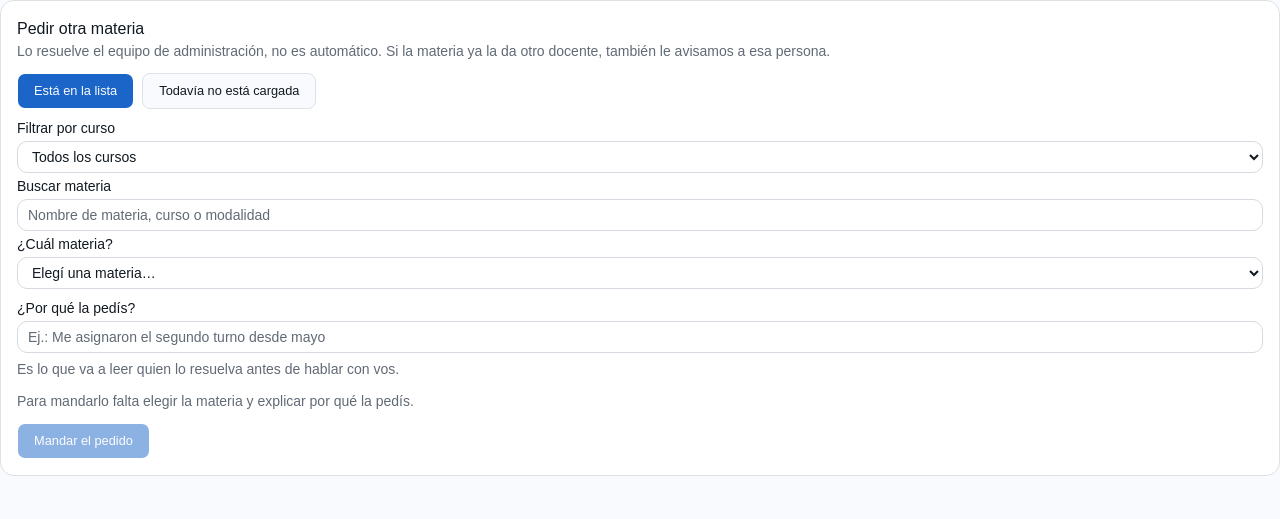
it: PedirMateria: consulta del catálogo › busca sin tildes por nombre y filtra cursos de distintas modalidades
Step 1. Select "3°1 · Electromecánica" in the dropdown labelled "Filtrar por curso" → (640, 157), box left=17, top=141, right=1263, bottom=173
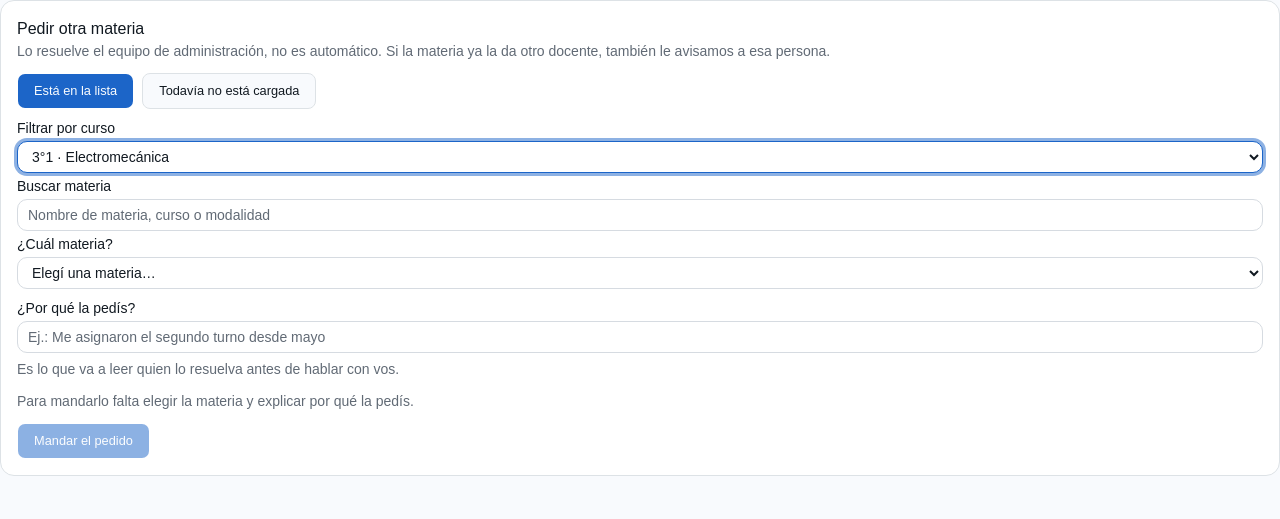
Step 2. Type "matematica" into the field labelled "Buscar materia" → (640, 215), box left=17, top=199, right=1263, bottom=231
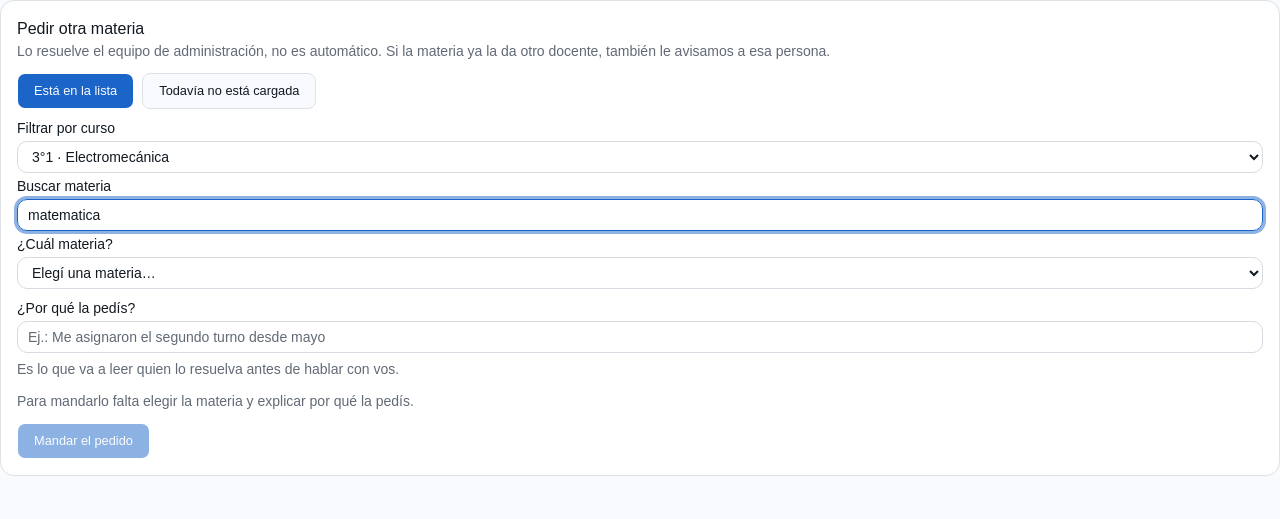
Step 3. Select "Matemática" in the dropdown labelled "¿Cuál materia?" → (640, 273), box left=17, top=257, right=1263, bottom=289
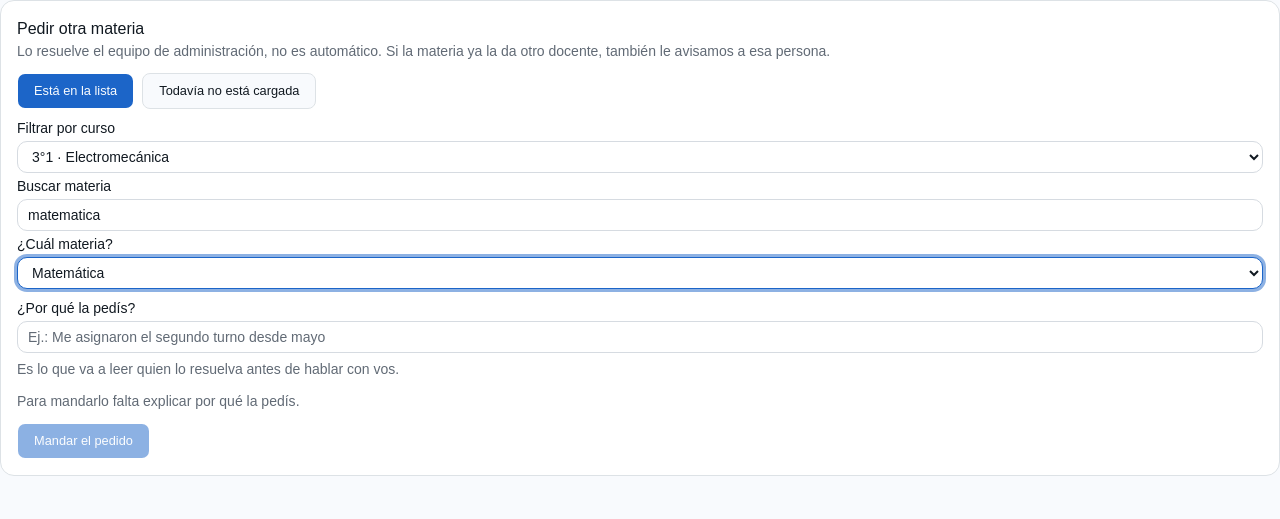
Step 4. Type "Me asignaron el curso" into the field labelled "¿Por qué la pedís?" → (640, 337), box left=17, top=321, right=1263, bottom=353
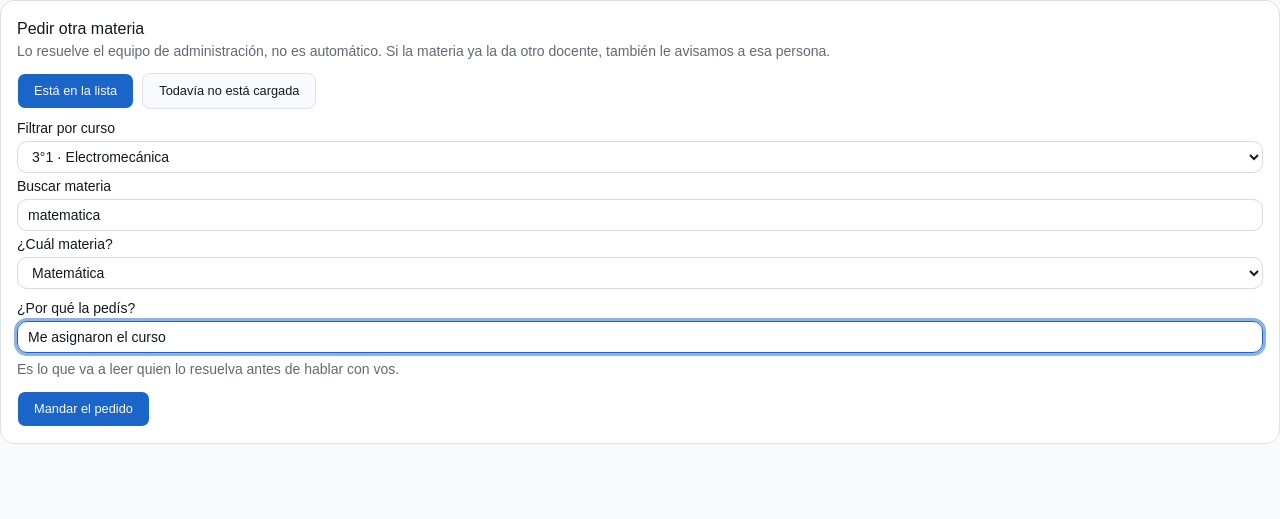
Check: the button "Mandar el pedido" is enabled, box left=17, top=391, right=150, bottom=427
Step 5. Replace the text in the field labelled "Buscar materia" with "no existe" → (640, 215), box left=17, top=199, right=1263, bottom=231
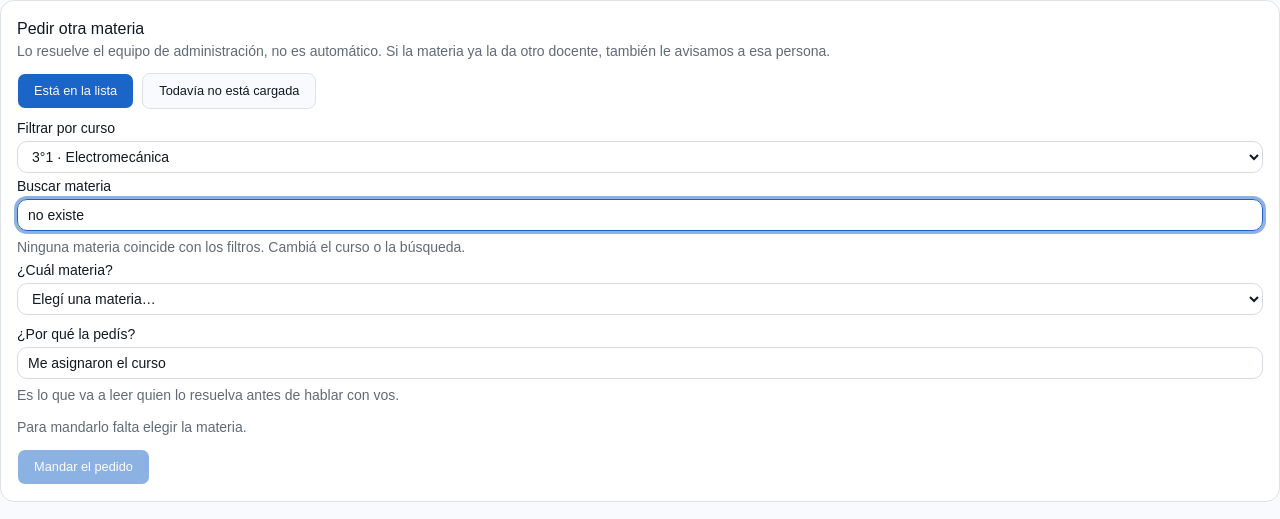
Check: the button "Mandar el pedido" is disabled, box left=17, top=449, right=150, bottom=485
Check: the text "Ninguna materia coincide" is shown, box left=17, top=239, right=465, bottom=255
